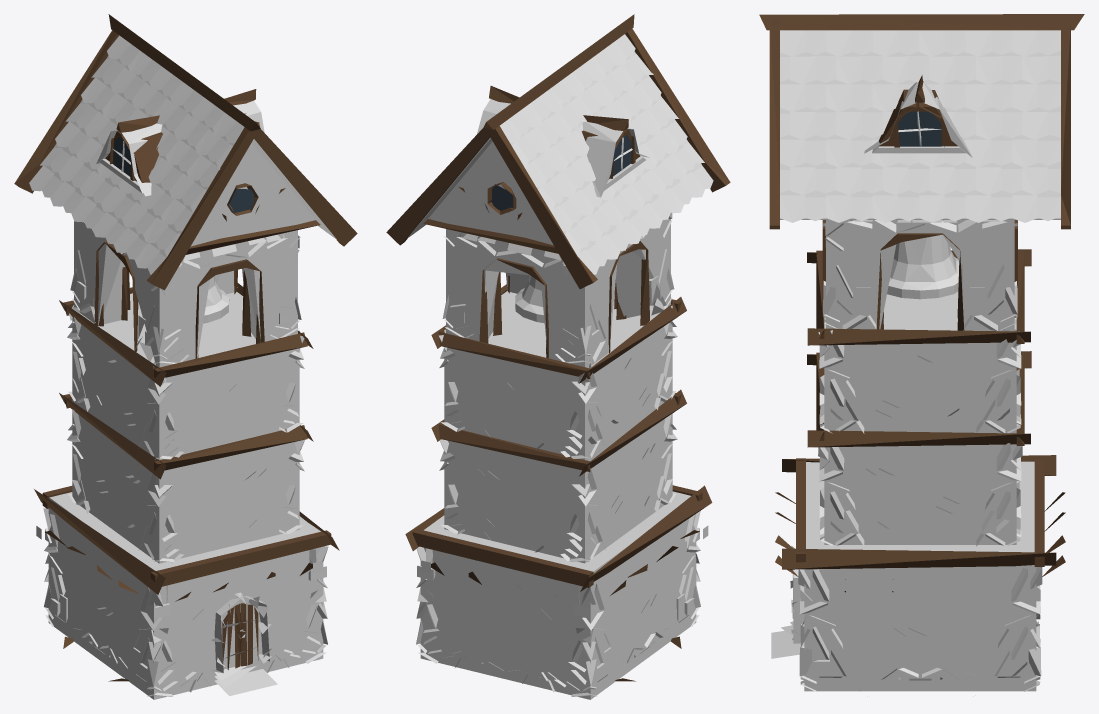
File: mv_bell.glb
3 renders of one model, left to right at view 1: azimuth 30°, elevation 25°; view 2: azimuth 150°, elevation 25°; view 3: azimuth 270°, elevation 25°, orthographic. The views are drawn at different scales.
Visible parts, largest first — view 1: S_BellTower; view 2: S_BellTower; view 3: S_BellTower.
Boxes of the visible parts, x1,y1,x2,y2 form: S_BellTower: (14,14,357,699); S_BellTower: (386,14,730,699); S_BellTower: (759,14,1084,691).
Bounding box in the file's own units: 1.94 × 4.76 × 2.23.
